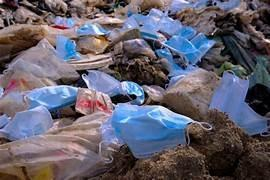Mask: (111, 104, 203, 157), (210, 72, 267, 134), (82, 70, 144, 104), (0, 106, 52, 139), (164, 33, 214, 64), (26, 85, 77, 110), (155, 48, 197, 76), (82, 70, 120, 96), (56, 35, 80, 60), (121, 81, 144, 104), (77, 23, 107, 35), (54, 16, 75, 28), (178, 26, 196, 38), (0, 114, 9, 127)
